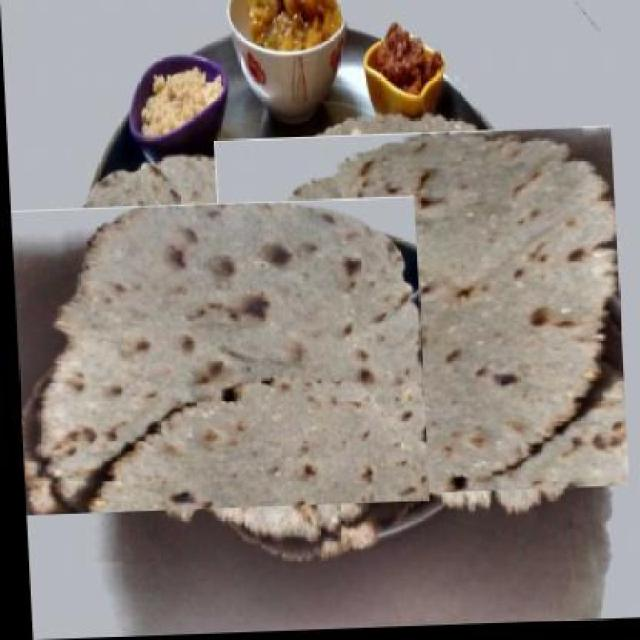chapati: (221, 121, 616, 512), (26, 174, 400, 544)
